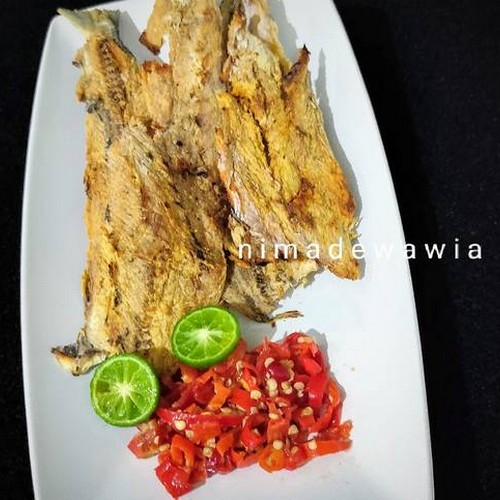sudang lepet: (63, 16, 361, 335)
